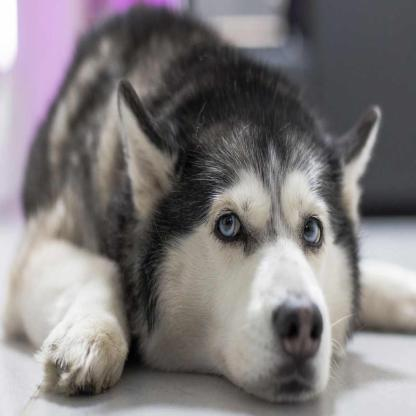husky: (4, 7, 416, 404)
